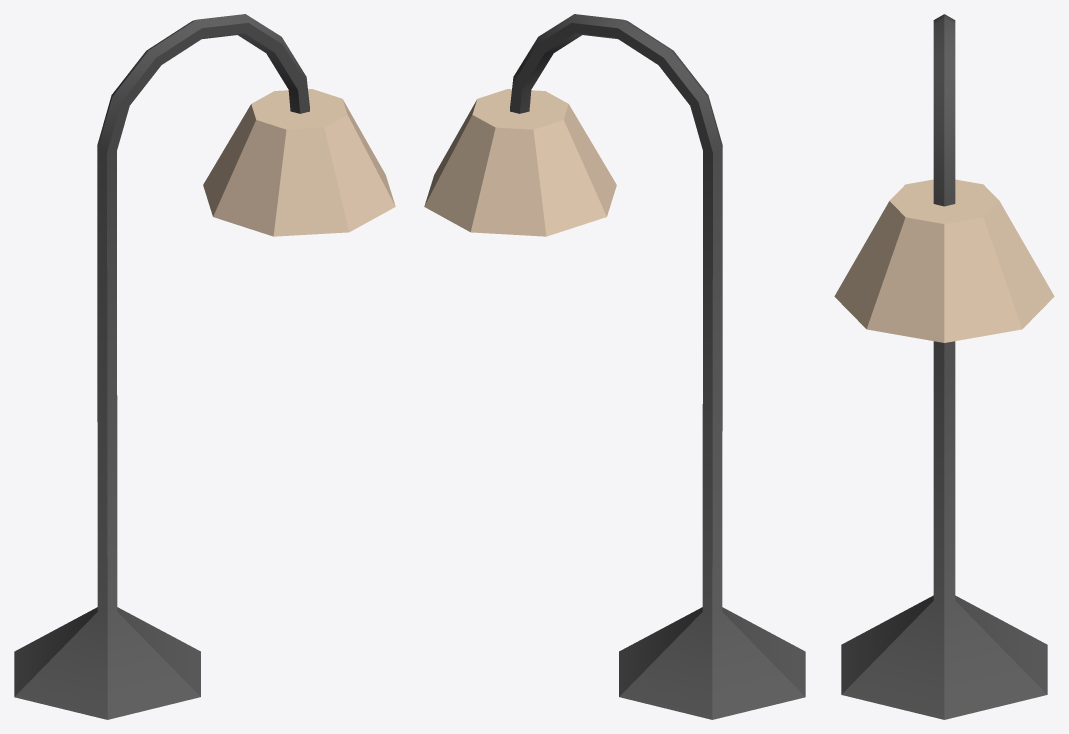
The model's file is Zen_LivingroomLamp.FBX.
The picture shows the model from 3 angles, left to right: view 1: azimuth 30°, elevation 25°; view 2: azimuth 150°, elevation 25°; view 3: azimuth 270°, elevation 25°; orthographic projection. The views are drawn at different scales.
Parts seen in each view (by area): view 1: Zen_LivingLamp; view 2: Zen_LivingLamp; view 3: Zen_LivingLamp.
Boxes of the visible parts, x1,y1,x2,y2 form: Zen_LivingLamp: (14,14,395,719); Zen_LivingLamp: (424,14,805,719); Zen_LivingLamp: (834,14,1054,719).
Bounding box in the file's own units: 45.04 × 73.34 × 20.94.
